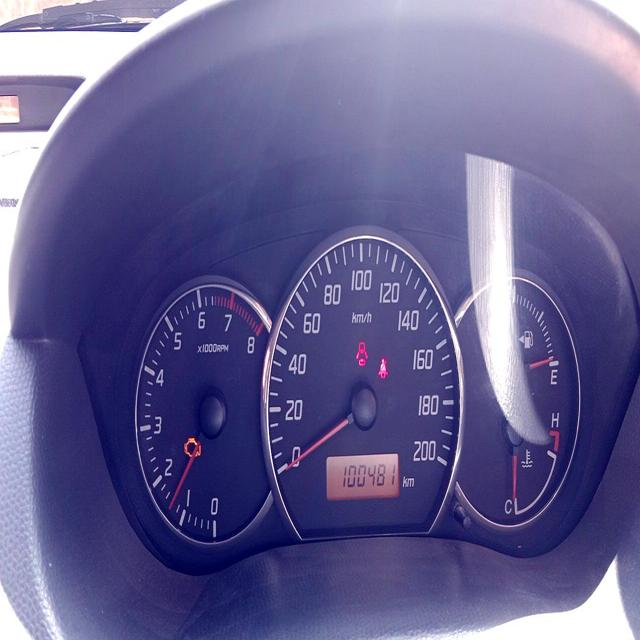odometer: (339, 458, 398, 491)
